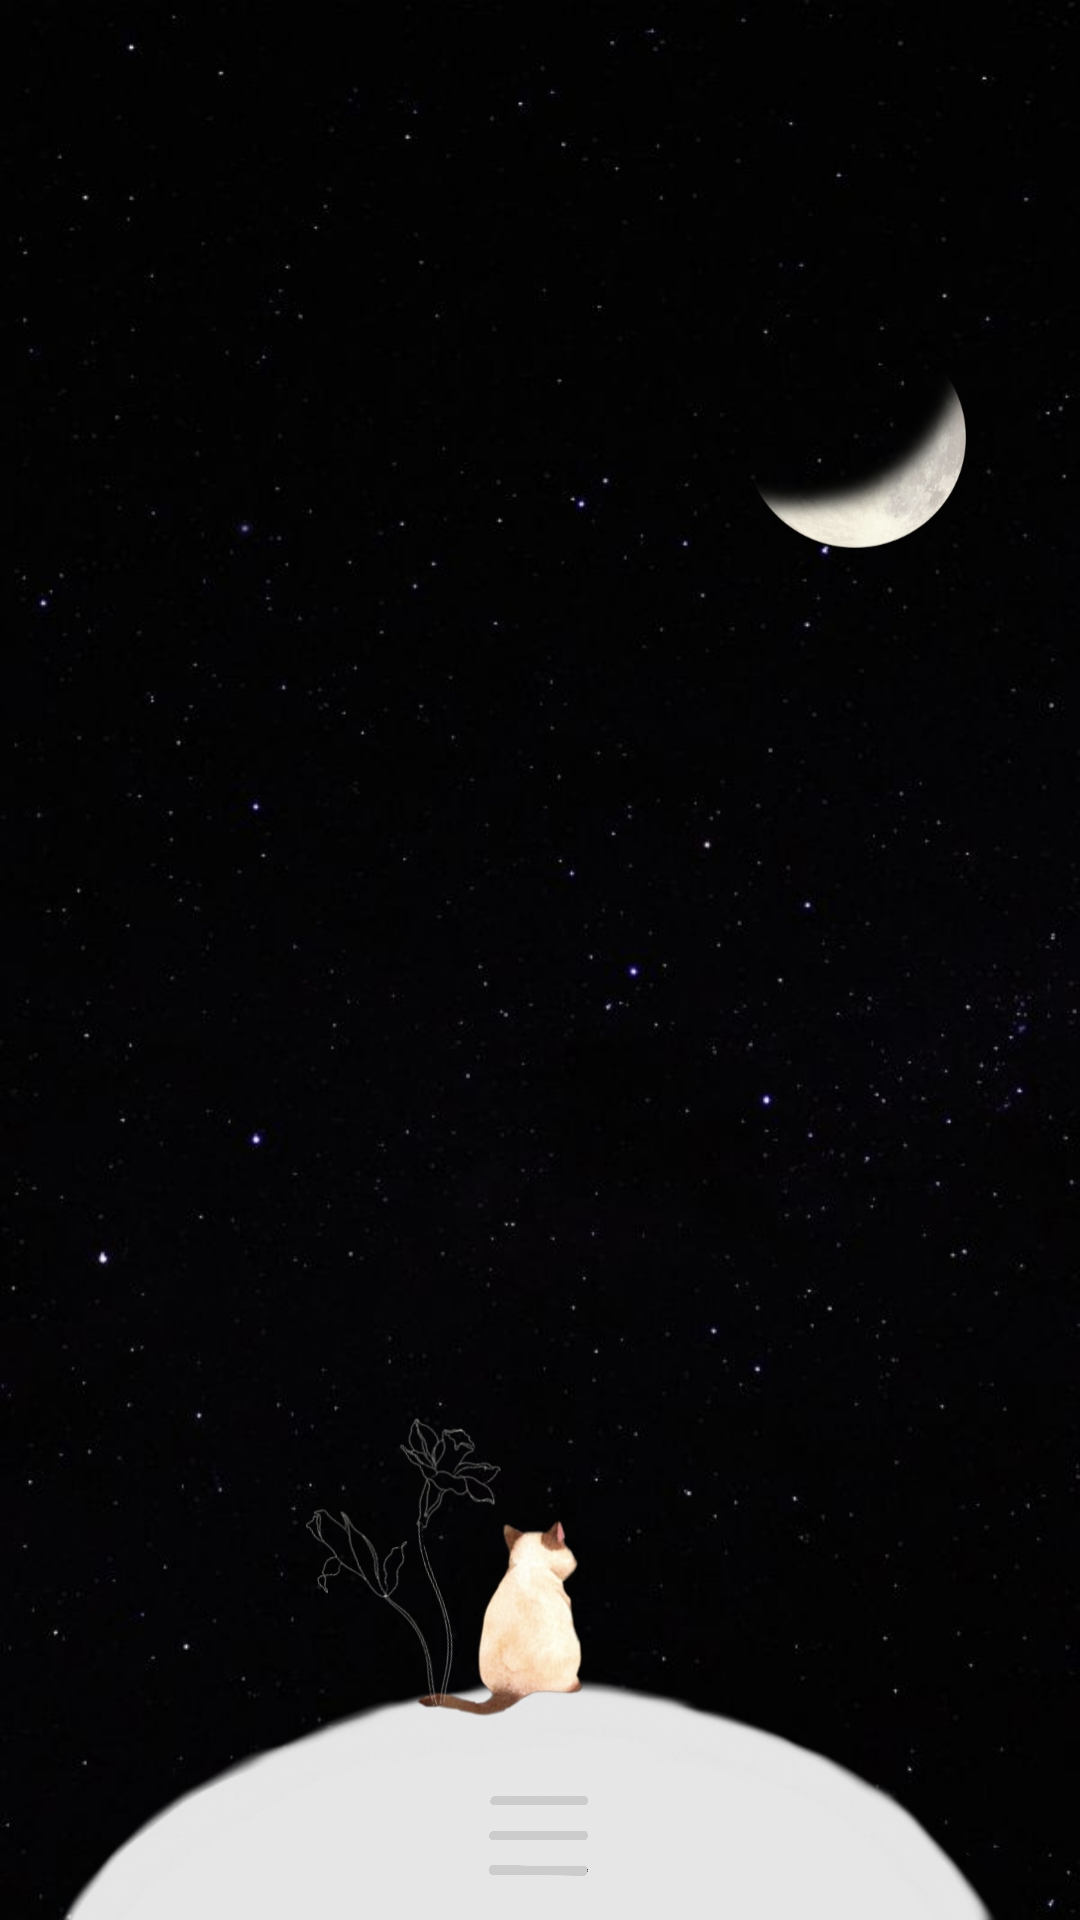

Locate icon controls on the screen. Image size 1080 × 1920, boxes as [x1=x1, y1=y1, x2=x2, y2=y2].
menu: [x1=489, y1=1796, x2=588, y2=1876]
